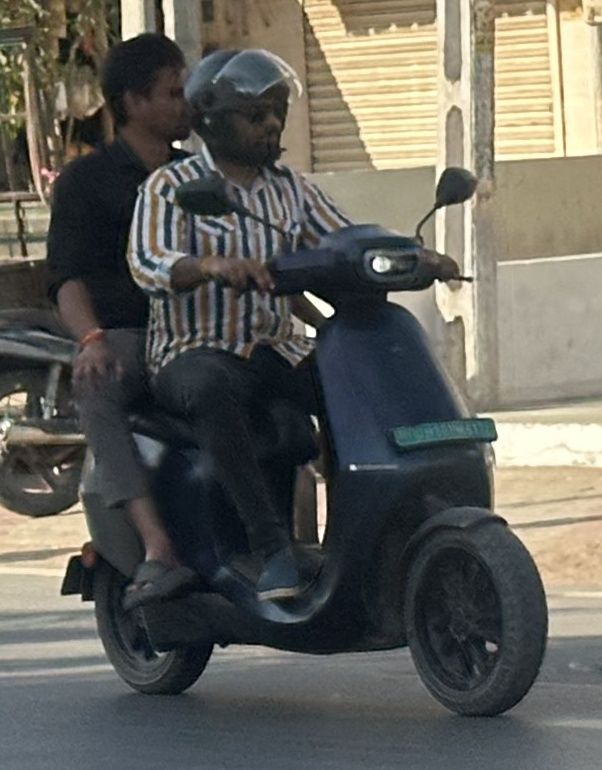BikeWithRider: (43, 28, 553, 718)
Helmet: (188, 45, 307, 163)
NoHelmet: (100, 28, 191, 144)
